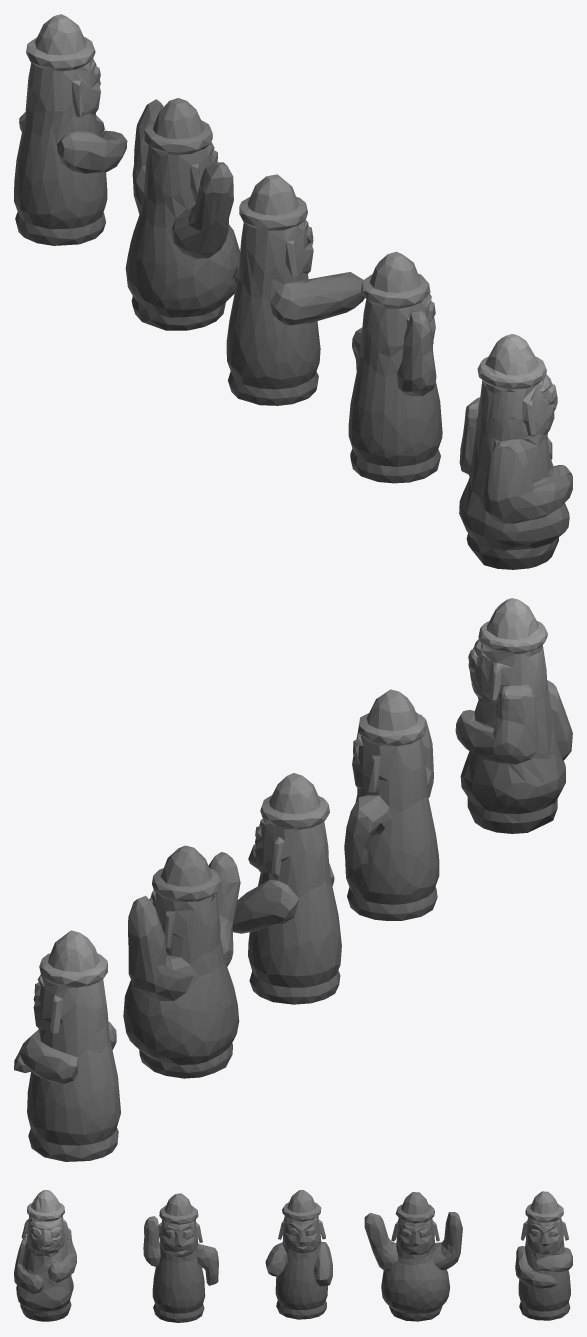
File: Dolhareubang_Set.fbx
3 renders of one model, top to bottom at view 1: azimuth 30°, elevation 25°; view 2: azimuth 150°, elevation 25°; view 3: azimuth 270°, elevation 25°, orthographic. The views are drawn at different scales.
Parts seen in each view (by area): view 1: Dolhareubang; view 2: Dolhareubang; view 3: Dolhareubang.
Part boxes in pixels (<box>): Dolhareubang: <box>14,14,572,569</box>; Dolhareubang: <box>14,598,572,1161</box>; Dolhareubang: <box>14,1190,572,1322</box>.
Bounding box in the file's own units: 124 × 240 × 999.
Materials: 1 (1 with a texture image).
